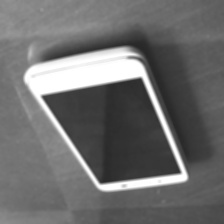phone: (19, 39, 191, 196)
